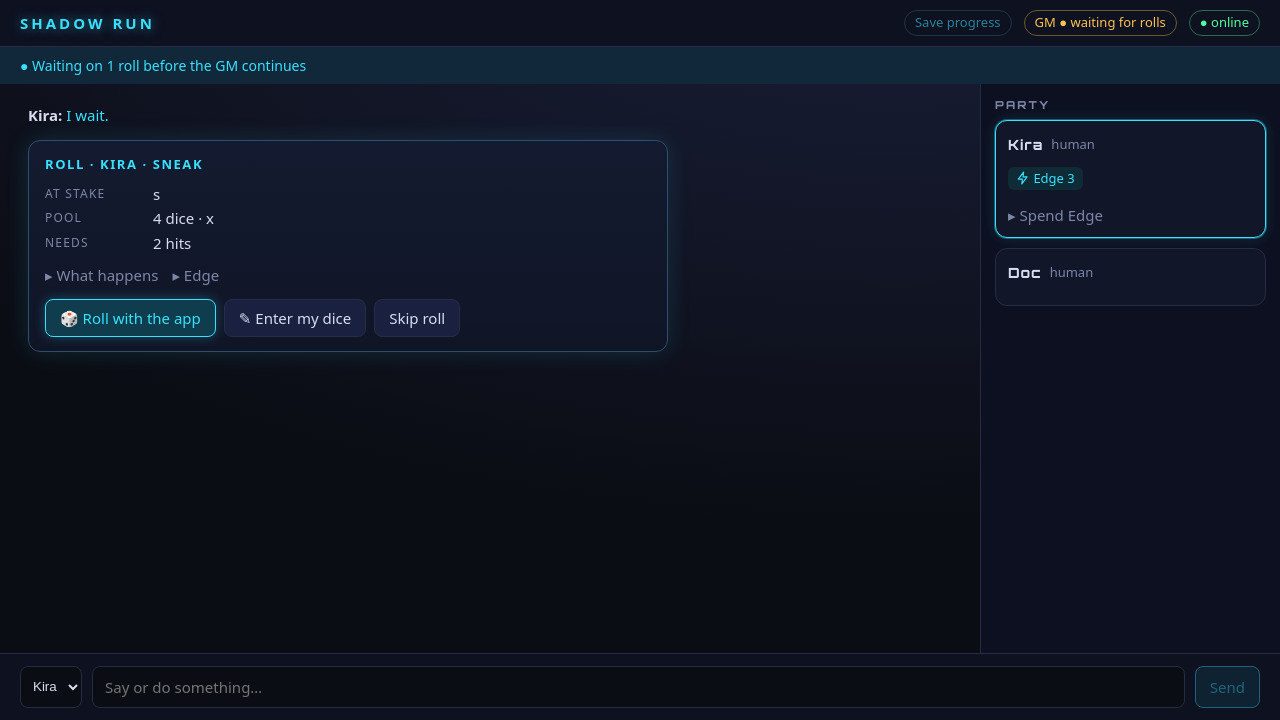
Test: the table screen › sessions › does not open the question while rolls are waiting, and says why
The width and height of the screenshot is (1280, 720).
Step 1. Click the button "Save progress" → [958, 23], box 904,10 -> 1012,36
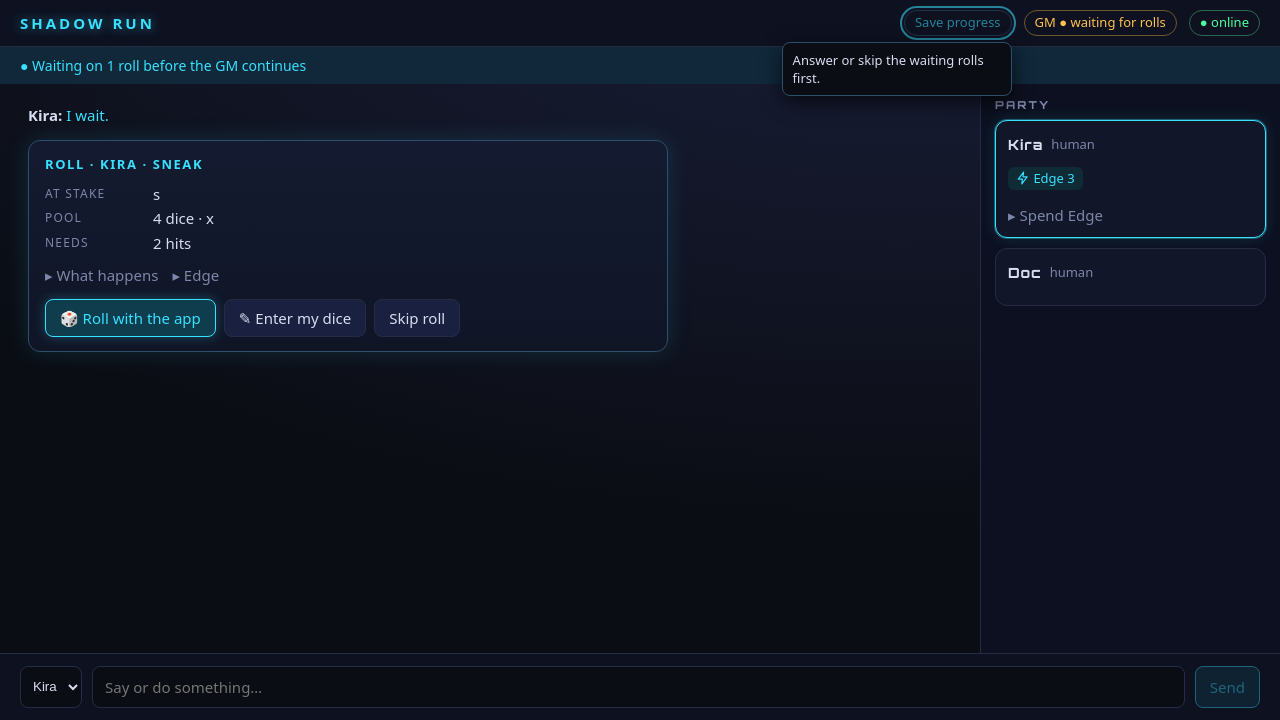
Result: the tooltip "Answer or skip the waiting rolls first." is shown at 782,42 -> 1012,96
